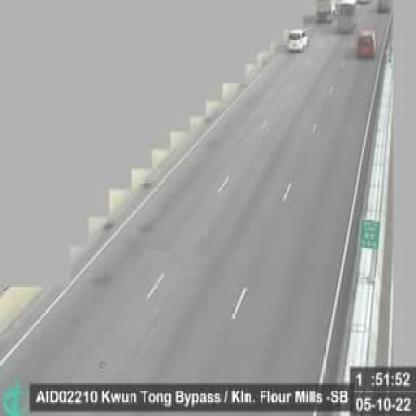Car: (358, 28, 376, 60), (286, 28, 308, 50)
